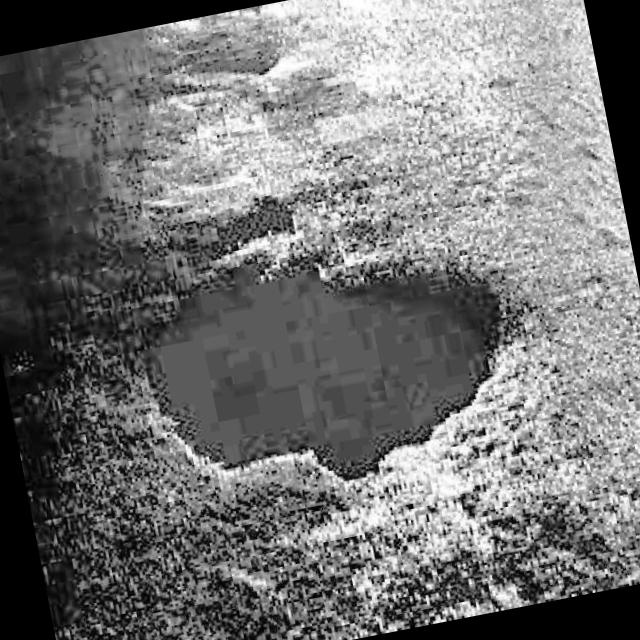Pothole: (90, 140, 563, 534)
